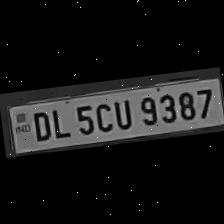3: (155, 90, 177, 125)
5: (68, 100, 95, 136)
7: (192, 84, 215, 119)
8: (173, 87, 196, 121)
9: (134, 92, 158, 128)
C: (90, 99, 113, 134)
D: (25, 108, 51, 142)
L: (47, 104, 71, 139)
U: (108, 95, 134, 131)
